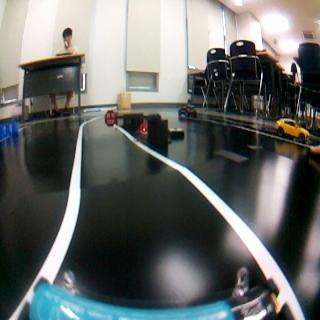stop: (105, 109, 116, 127)
